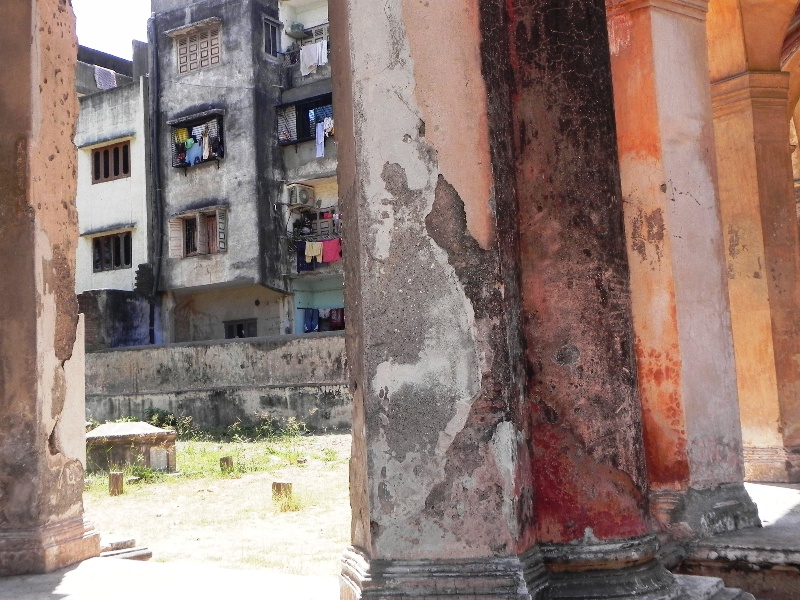Spalling: (420, 158, 504, 324), (41, 235, 80, 471)
